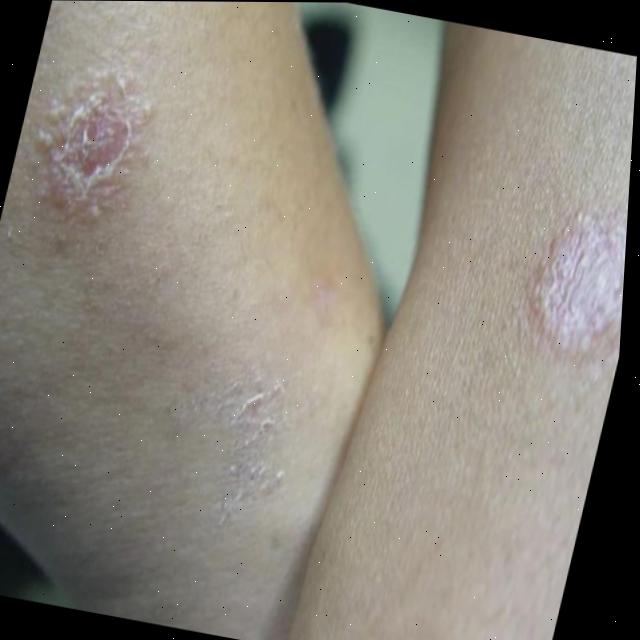Eczema: (509, 201, 628, 333), (27, 68, 129, 179), (221, 381, 307, 458)
